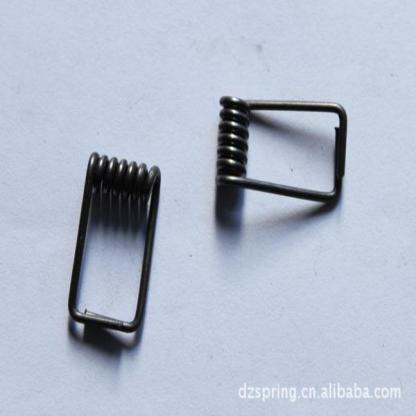FOD: (64, 148, 163, 336), (212, 94, 349, 204)
